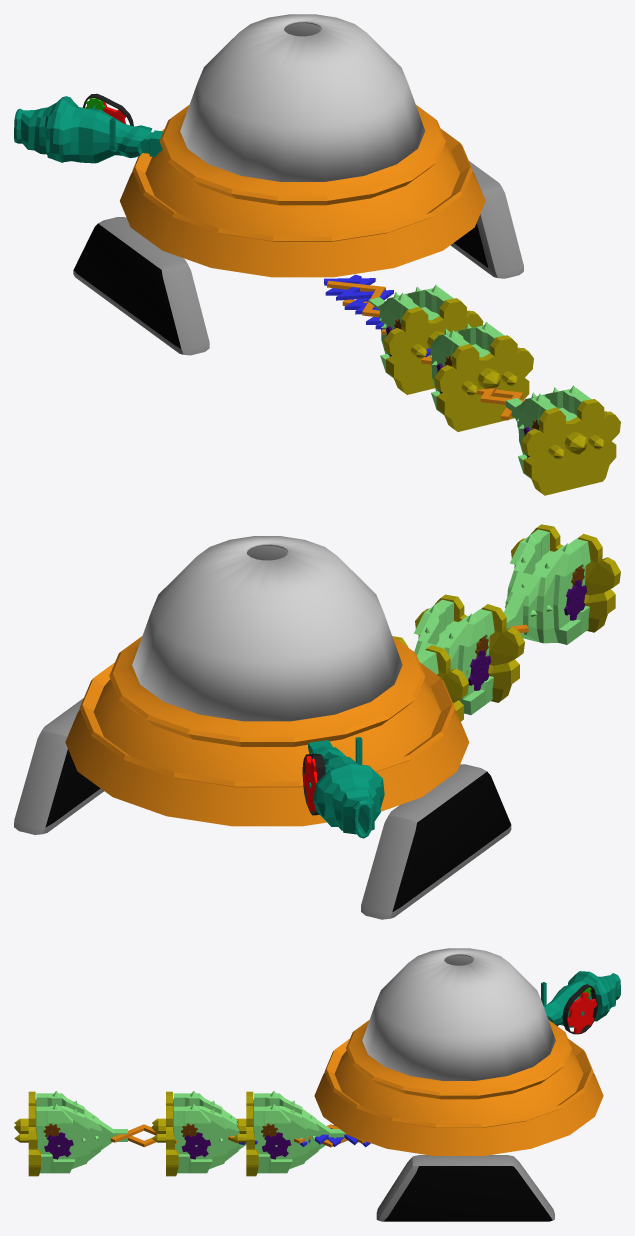
File: plant rework.fbx
The picture shows the model from 3 angles, top to bottom: view 1: azimuth 30°, elevation 25°; view 2: azimuth 150°, elevation 25°; view 3: azimuth 270°, elevation 25°; orthographic projection. The views are drawn at different scales.
Parts seen in each view (by area): view 1: `nuevo cuerpo, Object001, Box001, MetalFistHitter004, Gun, MetalFistHitter003, MetalFistHitter002, MetalFistHandler004, MetalFistHandler002, MetalFistHandler003, Line002, Line004; view 2: `nuevo cuerpo, Object001, Box001, MetalFistHandler004, Gun, MetalFistHandler003, MetalFistHitter004, MetalFistHitter003, MetalFistHitter002, GearBig007, GearBig009, GearBig; view 3: `nuevo cuerpo, Object001, Box001, MetalFistHandler004, MetalFistHandler002, MetalFistHandler003, Gun, MetalFistHitter004, MetalFistHitter003, MetalFistHitter002, GearBig, Line002 (+5 smaller).
Boxes of the visible parts, bbox=[...] form: `nuevo cuerpo: bbox=[120, 105, 485, 277]; Object001: bbox=[180, 14, 424, 181]; Box001: bbox=[73, 161, 523, 355]; MetalFistHitter004: bbox=[521, 399, 620, 495]; Gun: bbox=[14, 96, 163, 163]; MetalFistHitter003: bbox=[434, 335, 533, 431]; MetalFistHitter002: bbox=[383, 298, 483, 394]; MetalFistHandler004: bbox=[506, 385, 591, 478]; MetalFistHandler002: bbox=[368, 285, 453, 377]; MetalFistHandler003: bbox=[430, 322, 504, 414]; Line002: bbox=[327, 280, 524, 420]; Line004: bbox=[324, 274, 430, 356]; `nuevo cuerpo: bbox=[65, 636, 469, 826]; Object001: bbox=[132, 536, 402, 721]; Box001: bbox=[14, 698, 511, 919]; MetalFistHandler004: bbox=[504, 529, 590, 644]; Gun: bbox=[308, 737, 384, 838]; MetalFistHandler003: bbox=[414, 599, 494, 714]; MetalFistHitter004: bbox=[511, 524, 620, 632]; MetalFistHitter003: bbox=[415, 594, 524, 702]; MetalFistHitter002: bbox=[393, 636, 468, 721]; GearBig007: bbox=[468, 650, 491, 690]; GearBig009: bbox=[564, 580, 587, 620]; GearBig: bbox=[303, 756, 317, 812]; `nuevo cuerpo: bbox=[314, 1020, 603, 1155]; Object001: bbox=[362, 948, 555, 1080]; Box001: bbox=[376, 1155, 554, 1221]; MetalFistHandler004: bbox=[36, 1091, 127, 1173]; MetalFistHandler002: bbox=[254, 1091, 345, 1173]; MetalFistHandler003: bbox=[173, 1091, 246, 1173]; Gun: bbox=[541, 971, 620, 1027]; MetalFistHitter004: bbox=[14, 1091, 40, 1176]; MetalFistHitter003: bbox=[151, 1091, 178, 1176]; MetalFistHitter002: bbox=[232, 1091, 258, 1176]; GearBig: bbox=[567, 992, 597, 1033]; Line002: bbox=[110, 1124, 365, 1147].
Bounding box in the file's own units: 107 × 73.16 × 195.
